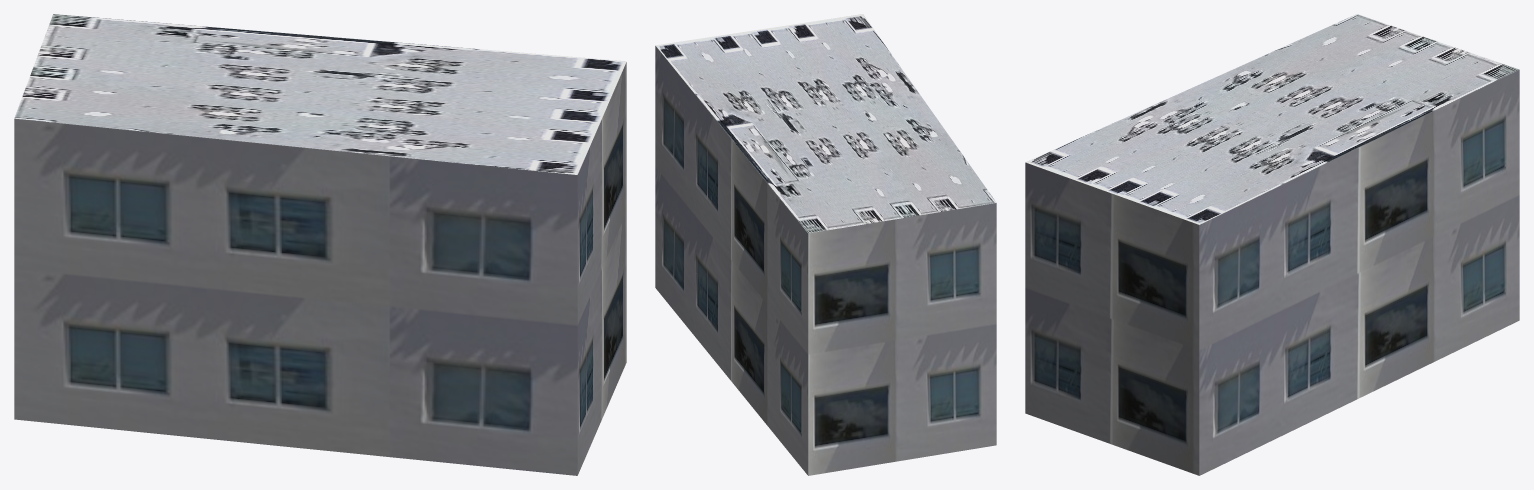
Rendered from ResTex__4738.fbx.
3 views of the same model, side by side, from view 1: azimuth 30°, elevation 25°; view 2: azimuth 150°, elevation 25°; view 3: azimuth 270°, elevation 25° (orthographic). The views are drawn at different scales.
Parts seen in each view (by area): view 1: CityEngineMaterial_10_m, CityEngineMaterial_4_m; view 2: CityEngineMaterial_10_m, CityEngineMaterial_4_m; view 3: CityEngineMaterial_10_m, CityEngineMaterial_4_m.
Part boxes in pixels (x1,y1,x2,y2): CityEngineMaterial_10_m: (14,62,626,475); CityEngineMaterial_4_m: (14,14,626,174); CityEngineMaterial_10_m: (655,46,996,475); CityEngineMaterial_4_m: (655,14,996,233); CityEngineMaterial_10_m: (1025,69,1519,475); CityEngineMaterial_4_m: (1025,14,1518,224).
Bounding box in the file's own units: 10.82 × 6 × 10.71.
Materials: 2 (2 with a texture image).
